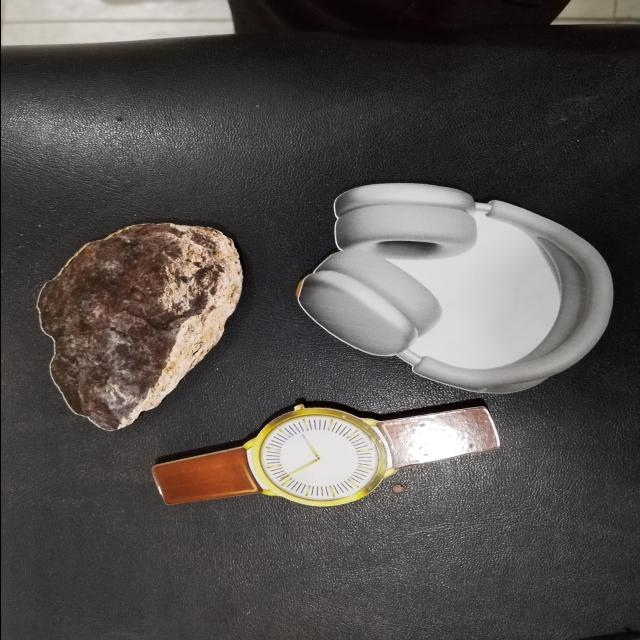Other Objects: (294, 182, 615, 395), (35, 222, 244, 431), (150, 402, 501, 507)
